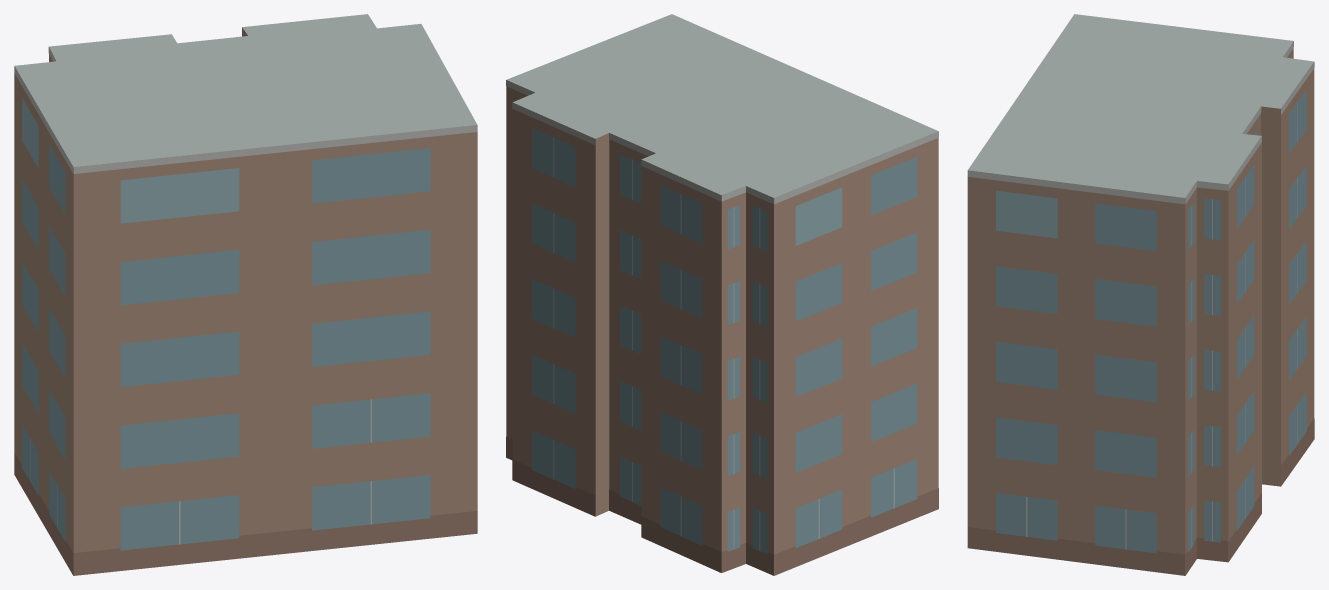
File: survey-upis-32951689.glb
The picture shows the model from 3 angles, left to right: view 1: azimuth 30°, elevation 25°; view 2: azimuth 150°, elevation 25°; view 3: azimuth 270°, elevation 25°; orthographic projection. The views are drawn at different scales.
Parts seen in each view (by area): view 1: survey-upis-32951689.tmp; view 2: survey-upis-32951689.tmp; view 3: survey-upis-32951689.tmp.
Boxes of the visible parts, x1,y1,x2,y2 form: survey-upis-32951689.tmp: (14, 14, 477, 575); survey-upis-32951689.tmp: (506, 14, 938, 575); survey-upis-32951689.tmp: (967, 14, 1314, 575).
Size of the model in its own units: 15.05 by 14.4 by 11.99.
